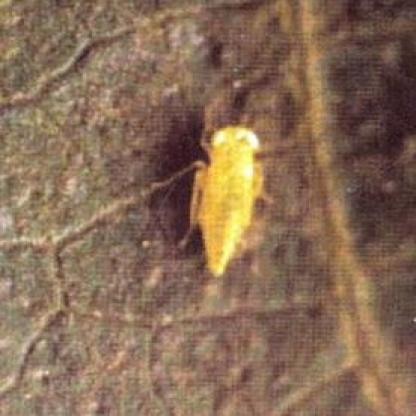Green-Leafhopper: (153, 124, 283, 280)
